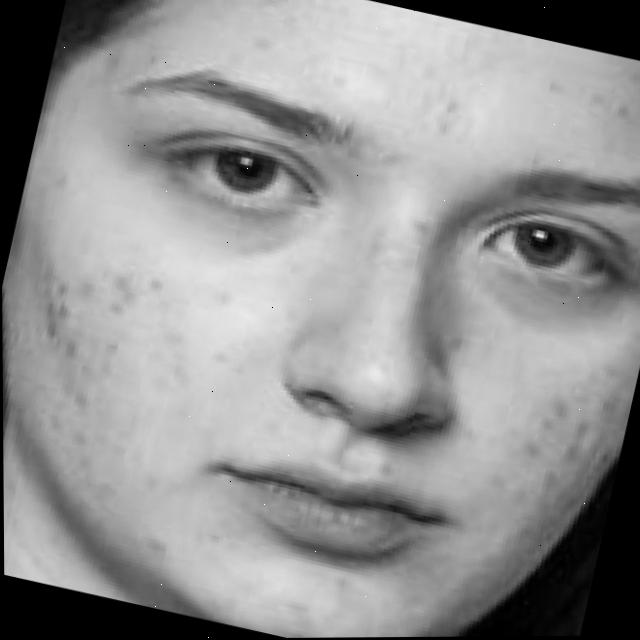Acne: (2, 233, 233, 447), (462, 343, 614, 535), (400, 44, 533, 135)
